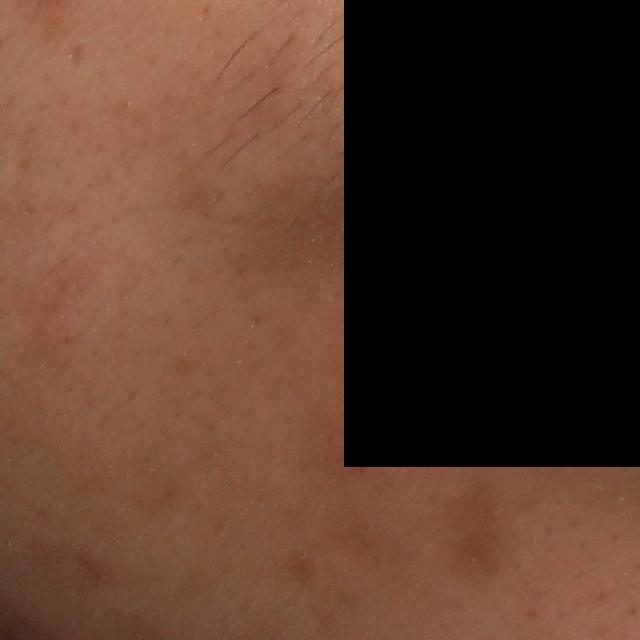atrophic_scar: (65, 33, 89, 77)
